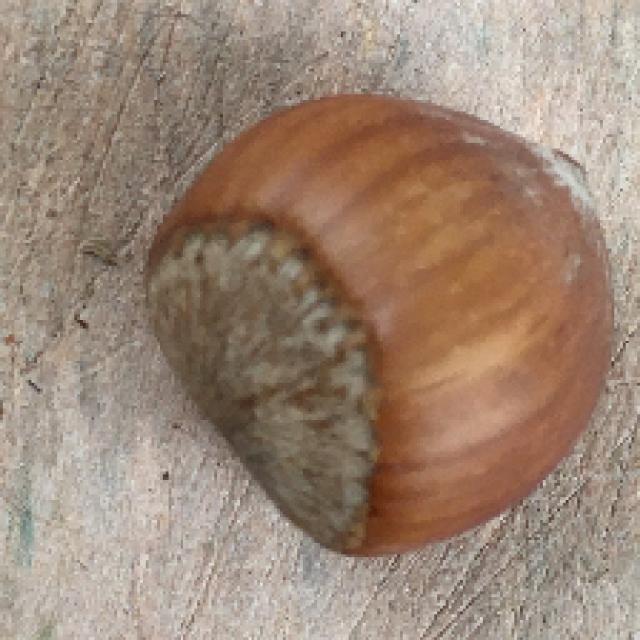qualityHazelnut: (141, 91, 616, 550)
